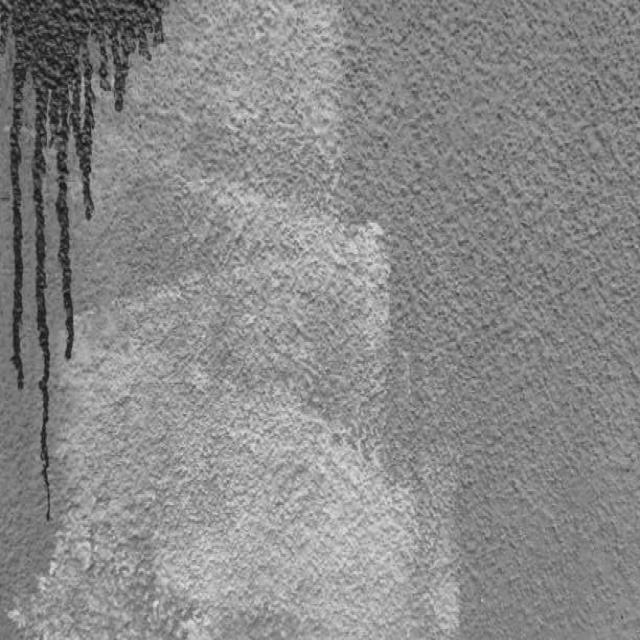paint drips: (0, 11, 168, 535)
